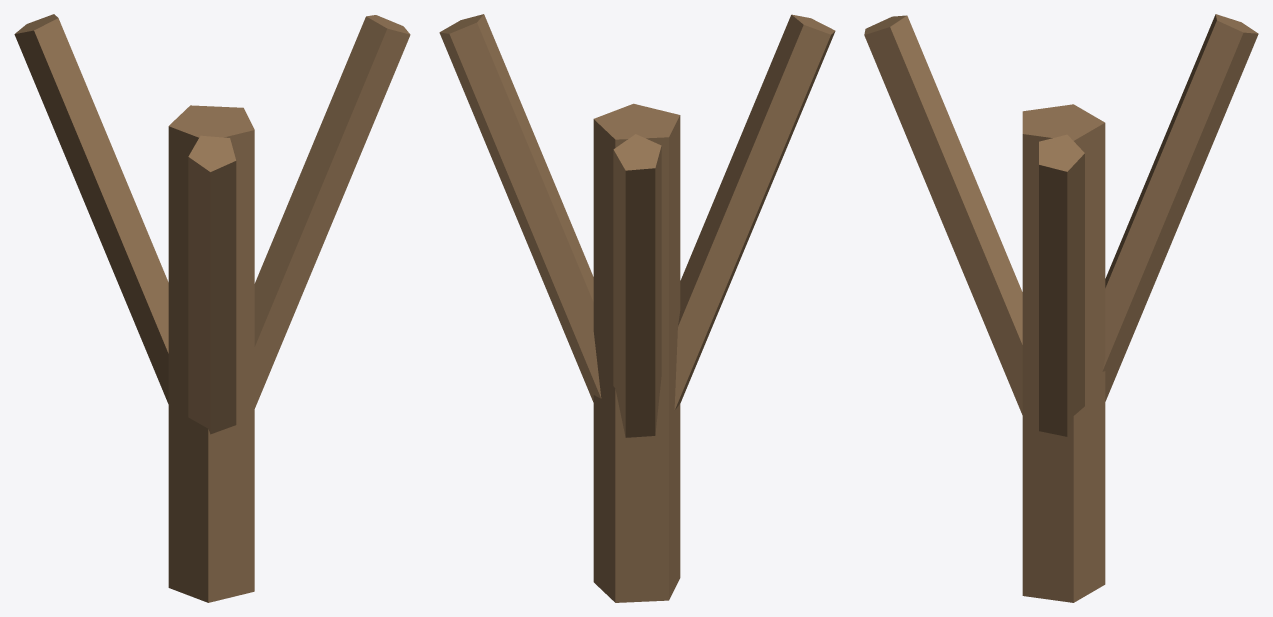
File: plant_berry_bush_dormant.glb
3 views of the same model, side by side, from view 1: azimuth 30°, elevation 25°; view 2: azimuth 150°, elevation 25°; view 3: azimuth 270°, elevation 25° (orthographic).
Parts seen in each view (by area): view 1: plant_berry_bush_dormant; view 2: plant_berry_bush_dormant; view 3: plant_berry_bush_dormant.
Boxes of the visible parts, x1,y1,x2,y2 form: plant_berry_bush_dormant: [14, 14, 410, 602]; plant_berry_bush_dormant: [439, 14, 835, 602]; plant_berry_bush_dormant: [864, 14, 1258, 602].
Size of the model in its own units: 0.3449 by 0.5733 by 0.3889.
